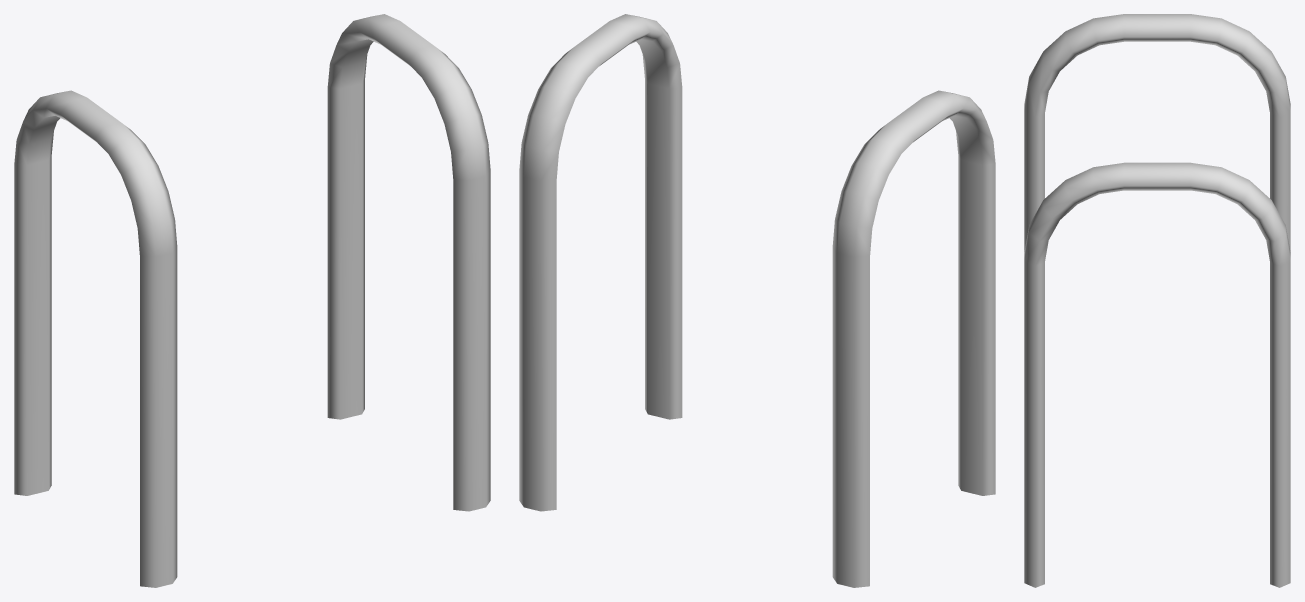
Rendered from Ladder_2_001.fbx.
3 renders of one model, left to right at view 1: azimuth 30°, elevation 25°; view 2: azimuth 150°, elevation 25°; view 3: azimuth 270°, elevation 25°, orthographic. The views are drawn at different scales.
Visible parts, largest first — view 1: Ladder_2_001; view 2: Ladder_2_001; view 3: Ladder_2_001.
Part boxes in pixels (x1,y1,x2,y2): Ladder_2_001: (14,14,490,587); Ladder_2_001: (519,14,995,587); Ladder_2_001: (1024,14,1290,587).
Bounding box in the file's own units: 84.08 × 56.85 × 97.07.
